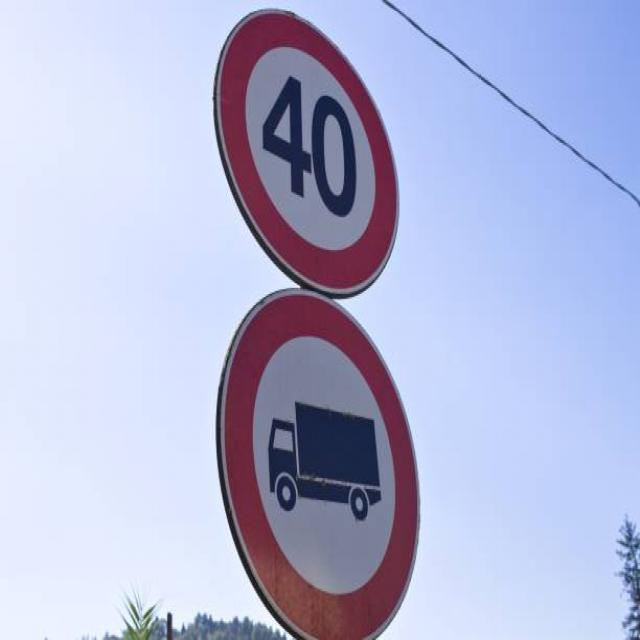do_not_enter: (186, 272, 446, 640)
